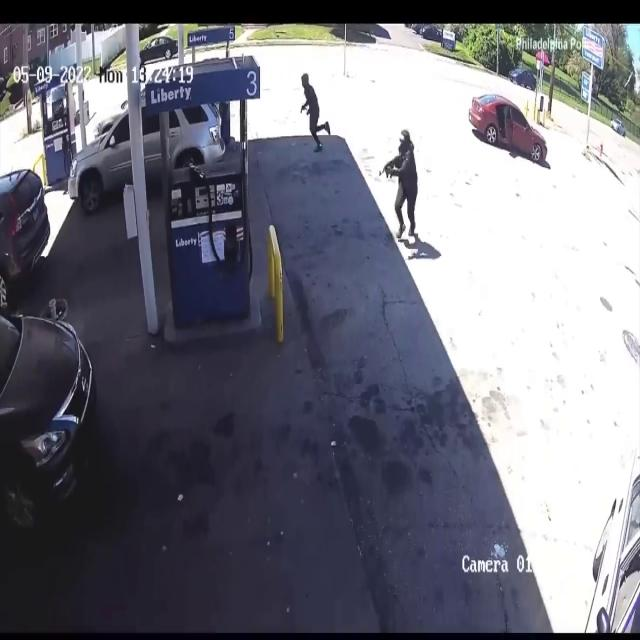penembakan: (378, 126, 426, 252), (293, 67, 333, 160)
